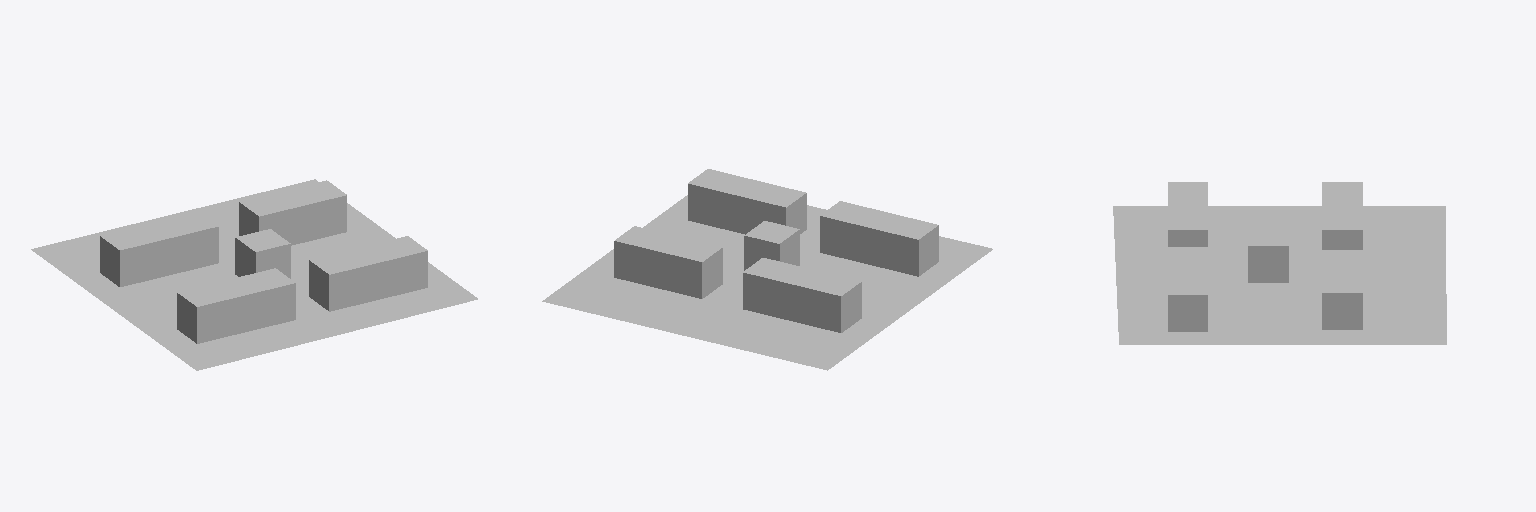
The model's file is mapsample1.obj.
The picture shows the model from 3 angles: view 1: azimuth 30°, elevation 25°; view 2: azimuth 150°, elevation 25°; view 3: azimuth 270°, elevation 25°; orthographic projection.
Parts seen in each view (by area): view 1: Plane, Cube.001_Cube.002, Cube.003_Cube.004, Cube.002_Cube.003, Cube_Cube.001, Cube.004_Cube.005; view 2: Plane, Cube.003_Cube.004, Cube.002_Cube.003, Cube_Cube.001, Cube.001_Cube.002, Cube.004_Cube.005; view 3: Plane, Cube.001_Cube.002, Cube_Cube.001, Cube.002_Cube.003, Cube.003_Cube.004, Cube.004_Cube.005.
Part boxes in pixels (x1,y1,x2,y2): Plane: (31,179,477,370); Cube.001_Cube.002: (309,236,427,311); Cube.003_Cube.004: (177,268,295,343); Cube.002_Cube.003: (100,212,218,286); Cube_Cube.001: (239,180,346,245); Cube.004_Cube.005: (235,229,290,278); Plane: (542,195,992,370); Cube.003_Cube.004: (820,201,938,276); Cube.002_Cube.003: (743,258,861,332); Cube_Cube.001: (614,226,722,298); Cube.001_Cube.002: (688,169,806,234); Cube.004_Cube.005: (744,221,799,270); Plane: (1113,206,1446,344); Cube.001_Cube.002: (1168,247,1207,331); Cube_Cube.001: (1322,250,1362,329); Cube.002_Cube.003: (1322,182,1362,249); Cube.003_Cube.004: (1168,182,1207,246); Cube.004_Cube.005: (1248,229,1288,282).
Size of the model in its own units: 16.17 by 2.08 by 16.39.